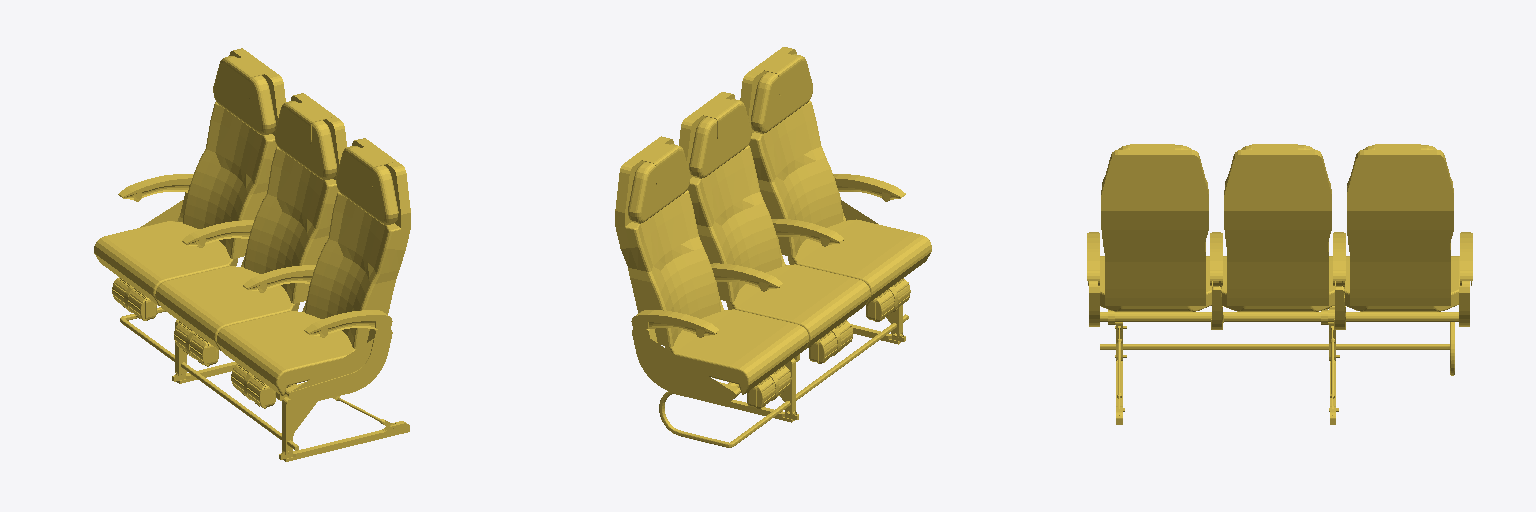
The model's file is Econamy_Seat.obj.
The picture shows the model from 3 angles: view 1: azimuth 30°, elevation 25°; view 2: azimuth 150°, elevation 25°; view 3: azimuth 270°, elevation 25°; orthographic projection.
Parts seen in each view (by area): view 1: Econamy_Seat; view 2: Econamy_Seat; view 3: Econamy_Seat.
Boxes of the visible parts, x1,y1,x2,y2 form: Econamy_Seat: [94, 48, 410, 461]; Econamy_Seat: [615, 47, 931, 447]; Econamy_Seat: [1087, 144, 1472, 424].
Bounding box in the file's own units: 59.67 × 106 × 138.